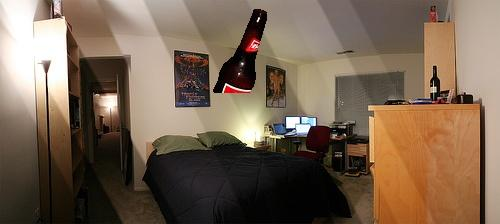tampered: (214, 10, 267, 93)
